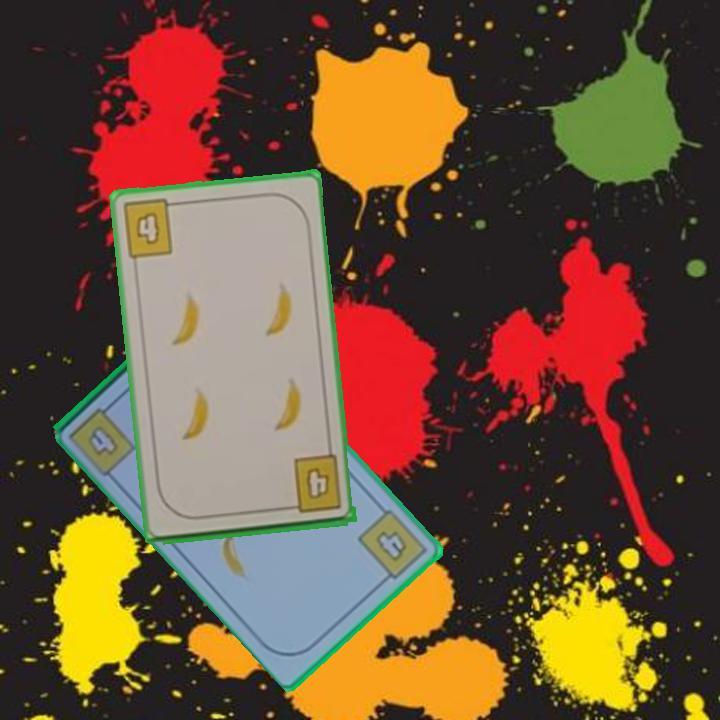4b: (354, 505, 430, 587), (118, 196, 183, 261), (281, 452, 344, 517), (84, 421, 123, 459)
